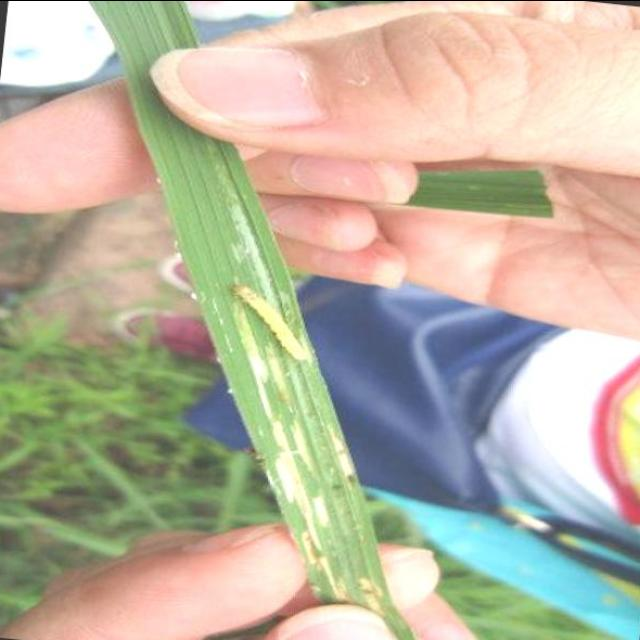leaf folder: (234, 286, 310, 360)
